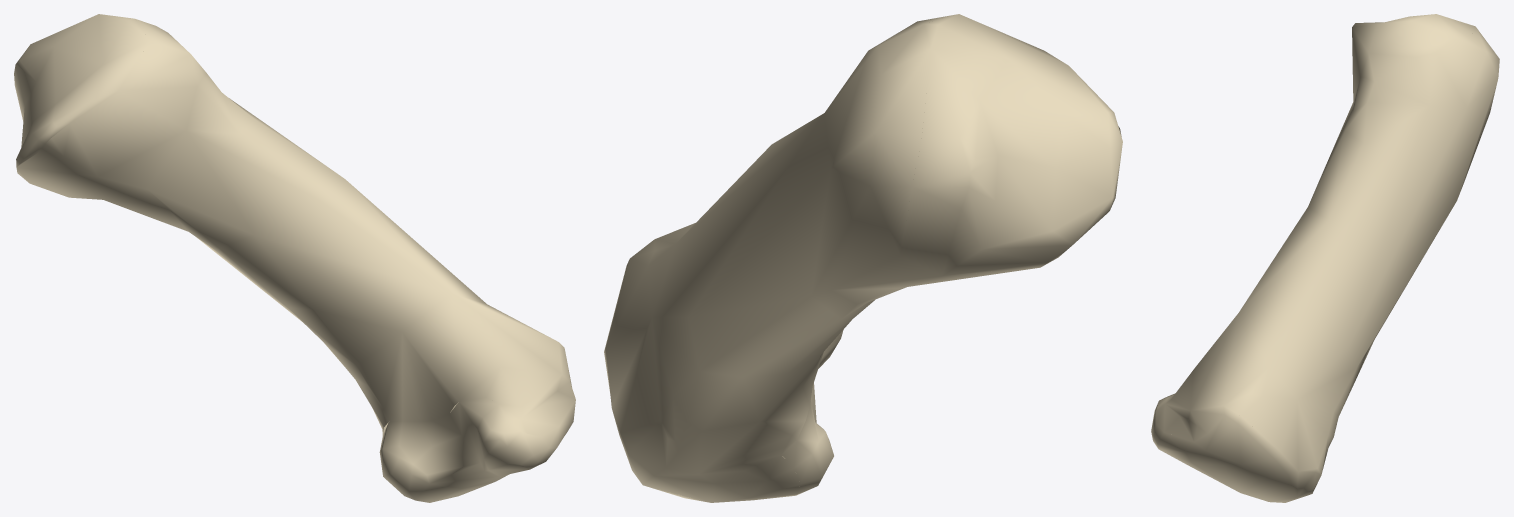
The model's file is esqueleto-first-metacarpal-bone-l.glb.
3 views of the same model, side by side, from view 1: azimuth 30°, elevation 25°; view 2: azimuth 150°, elevation 25°; view 3: azimuth 270°, elevation 25° (orthographic). The views are drawn at different scales.
Parts seen in each view (by area): view 1: First metacarpal bone.l; view 2: First metacarpal bone.l; view 3: First metacarpal bone.l.
Boxes of the visible parts, box(x1,y1,x2,y2) form: First metacarpal bone.l: box(14, 14, 575, 502); First metacarpal bone.l: box(604, 14, 1122, 502); First metacarpal bone.l: box(1151, 14, 1499, 502).
Size of the model in its own units: 0.0387 by 0.0384 by 0.0315.
